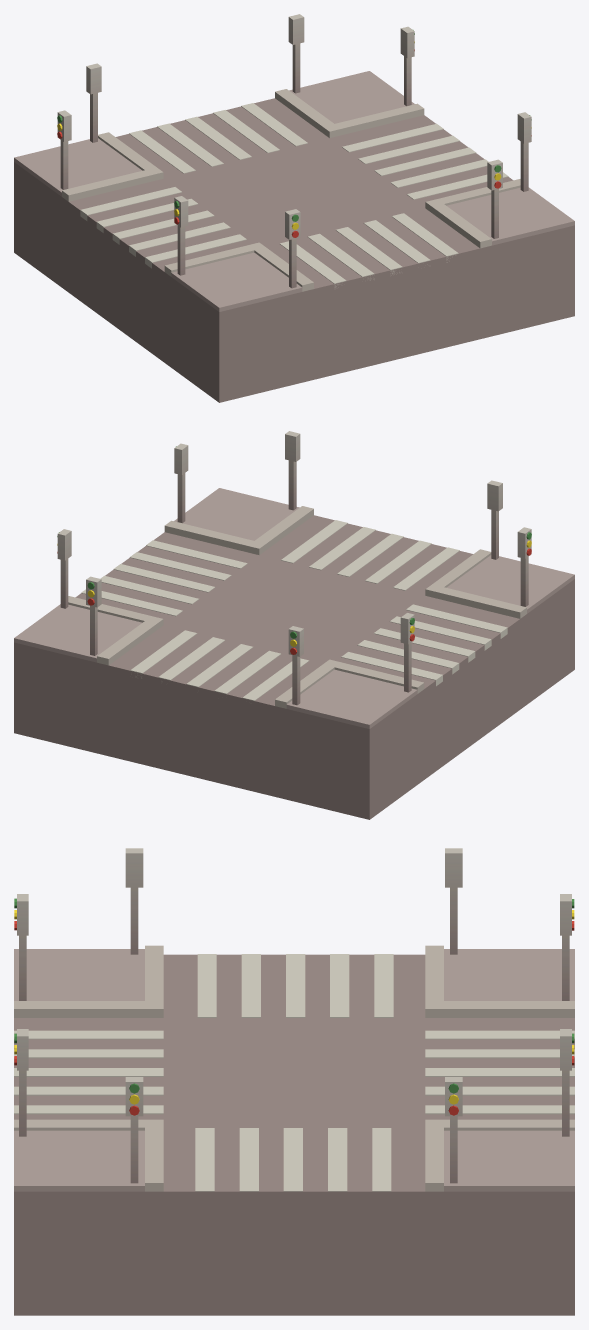
Rendered from Road_4_Crossing.fbx.
3 views of the same model, one above another, from view 1: azimuth 30°, elevation 25°; view 2: azimuth 150°, elevation 25°; view 3: azimuth 270°, elevation 25° (orthographic). The views are drawn at different scales.
Parts seen in each view (by area): view 1: Road_4_Crossing; view 2: Road_4_Crossing; view 3: Road_4_Crossing.
Part boxes in pixels (box(x1,y1,x2,y2)): Road_4_Crossing: box(14, 14, 574, 402); Road_4_Crossing: box(14, 431, 574, 819); Road_4_Crossing: box(14, 848, 574, 1315).
Size of the model in its own units: 400 by 183 by 400.
